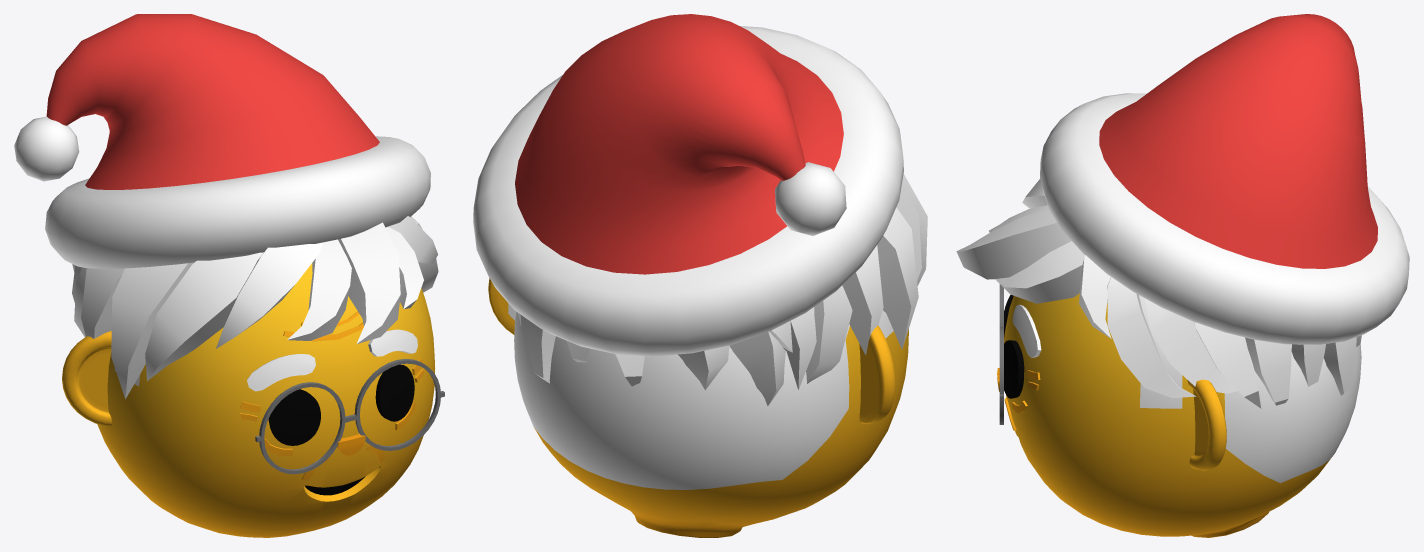
The model's file is mx_claus.gltf.
3 renders of one model, left to right at view 1: azimuth 30°, elevation 25°; view 2: azimuth 150°, elevation 25°; view 3: azimuth 270°, elevation 25°, orthographic. The views are drawn at different scales.
Visible parts, largest first — view 1: Circle.953, Roundcube.195, Cube.2306, Circle.945, Cylinder.173, Circle.951, Circle.947, Circle.949; view 2: Circle.953, Roundcube.195, Cube.2306, Cylinder.173; view 3: Circle.953, Roundcube.195, Cube.2306, Cylinder.173, Circle.945, Circle.947, Circle.951.
Part boxes in pixels (box(x1,y1,x2,y2)): Circle.953: box(14, 14, 430, 268); Roundcube.195: box(97, 263, 435, 537); Cube.2306: box(72, 216, 438, 398); Circle.945: box(268, 364, 414, 445); Cylinder.173: box(62, 331, 112, 426); Circle.951: box(255, 359, 444, 474); Circle.947: box(247, 329, 417, 391); Circle.949: box(240, 358, 424, 480); Circle.953: box(473, 14, 903, 356); Roundcube.195: box(514, 310, 908, 537); Cube.2306: box(508, 174, 927, 405); Cylinder.173: box(488, 278, 895, 424); Circle.953: box(1040, 14, 1409, 344); Roundcube.195: box(1004, 293, 1361, 537); Cube.2306: box(956, 179, 1361, 408); Cylinder.173: box(1187, 379, 1226, 470); Circle.945: box(1004, 295, 1024, 398); Circle.947: box(1012, 304, 1041, 357); Circle.951: box(999, 284, 1003, 424).
Size of the model in its own units: 1.76 by 2.23 by 1.92.
Materials: 2 (2 with a texture image).
